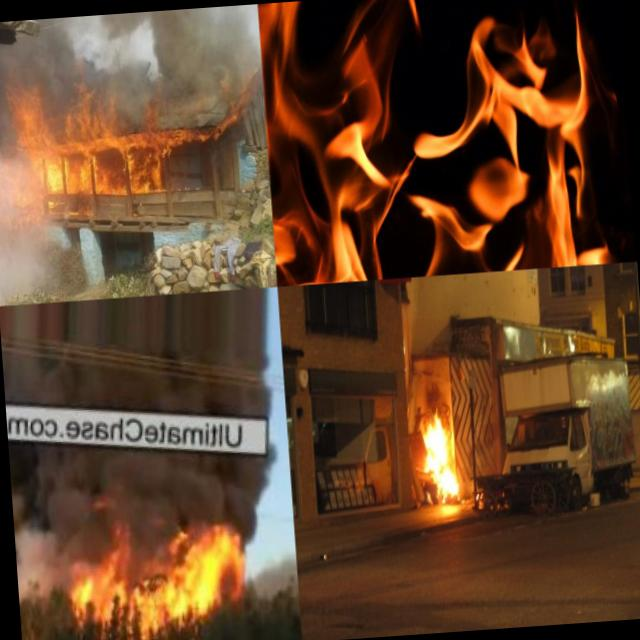fire: (256, 0, 635, 285), (57, 510, 247, 632), (15, 88, 167, 220), (413, 388, 458, 498)
smoke: (96, 4, 264, 136), (9, 450, 69, 610), (0, 144, 54, 306), (33, 0, 100, 49)
